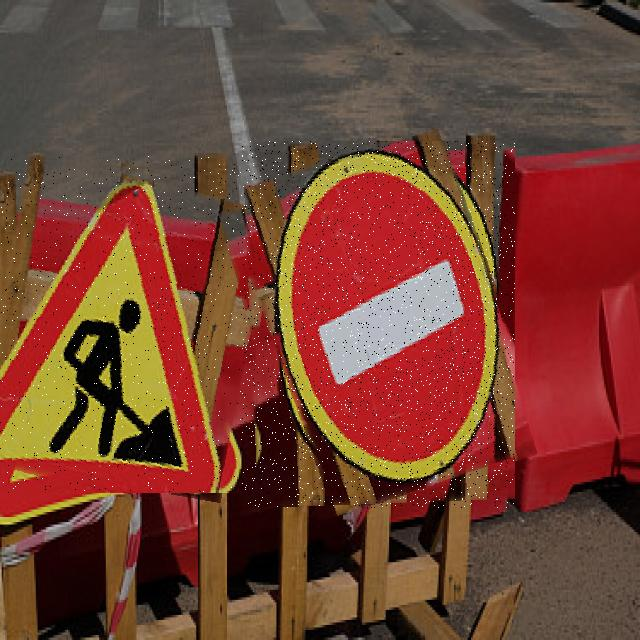no entry: (242, 141, 515, 508)
roadwork: (0, 156, 261, 493)
